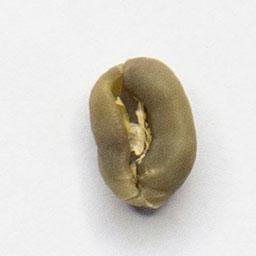peaberry: (86, 52, 200, 215)
